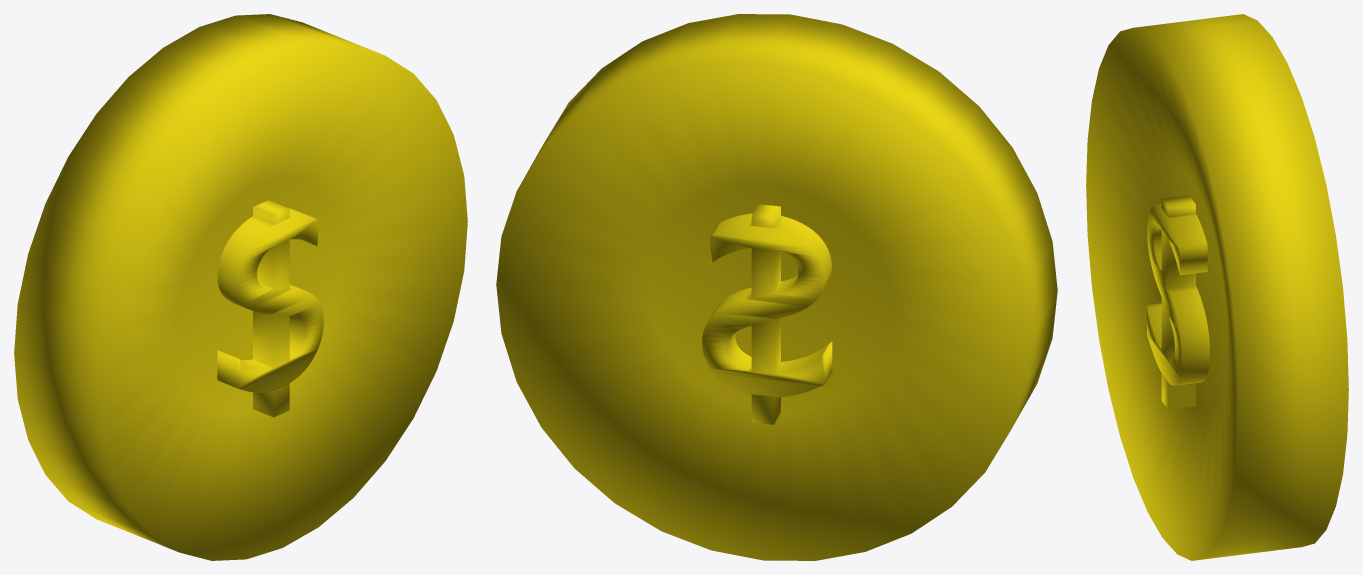
File: Coin.fbx
The picture shows the model from 3 angles, left to right: view 1: azimuth 30°, elevation 25°; view 2: azimuth 150°, elevation 25°; view 3: azimuth 270°, elevation 25°; orthographic projection. The views are drawn at different scales.
Parts seen in each view (by area): view 1: Цилиндр; view 2: Цилиндр; view 3: Цилиндр.
Boxes of the visible parts, x1,y1,x2,y2 form: Цилиндр: (14, 14, 467, 560); Цилиндр: (496, 14, 1057, 560); Цилиндр: (1086, 14, 1348, 560).
Bounding box in the file's own units: 47.5 × 46.59 × 22.78.
